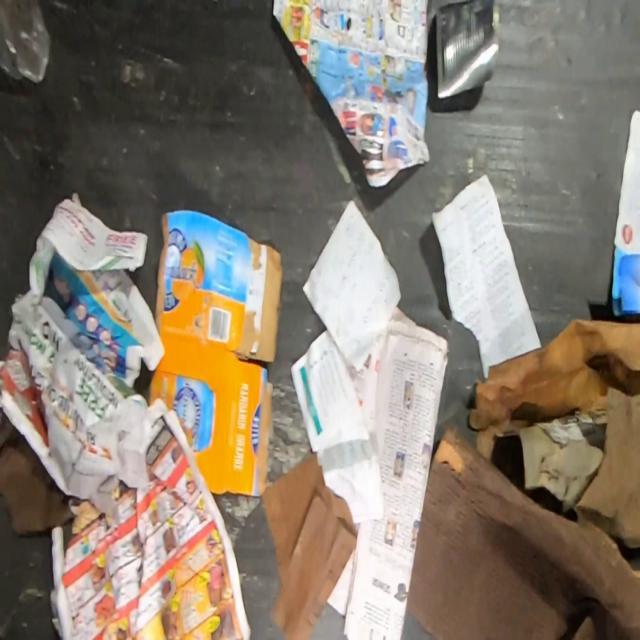cardboard: (406, 423, 640, 640), (148, 208, 283, 497), (475, 395, 606, 514), (571, 383, 640, 548), (0, 433, 73, 538), (610, 109, 640, 318)
metal: (434, 0, 500, 100)
soft_plastic: (0, 0, 52, 84)
